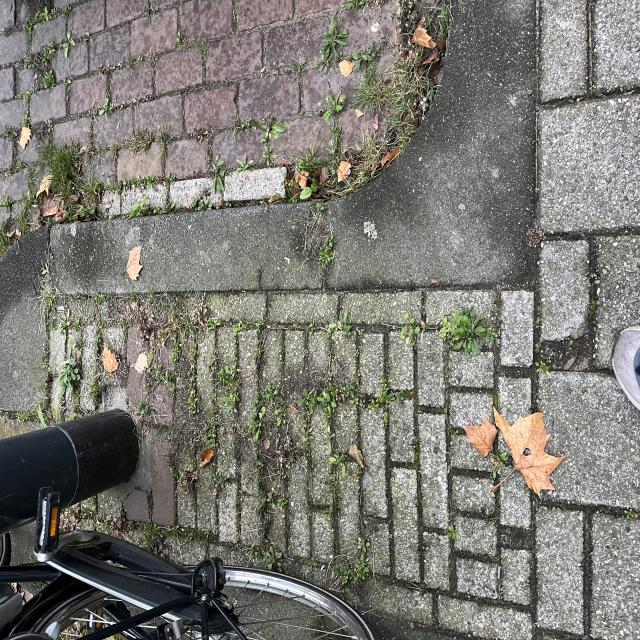leaves: (470, 414, 561, 484), (122, 242, 149, 278), (20, 125, 31, 150)
weed: (31, 127, 93, 226), (45, 137, 83, 220)
weedling: (319, 383, 388, 470)
